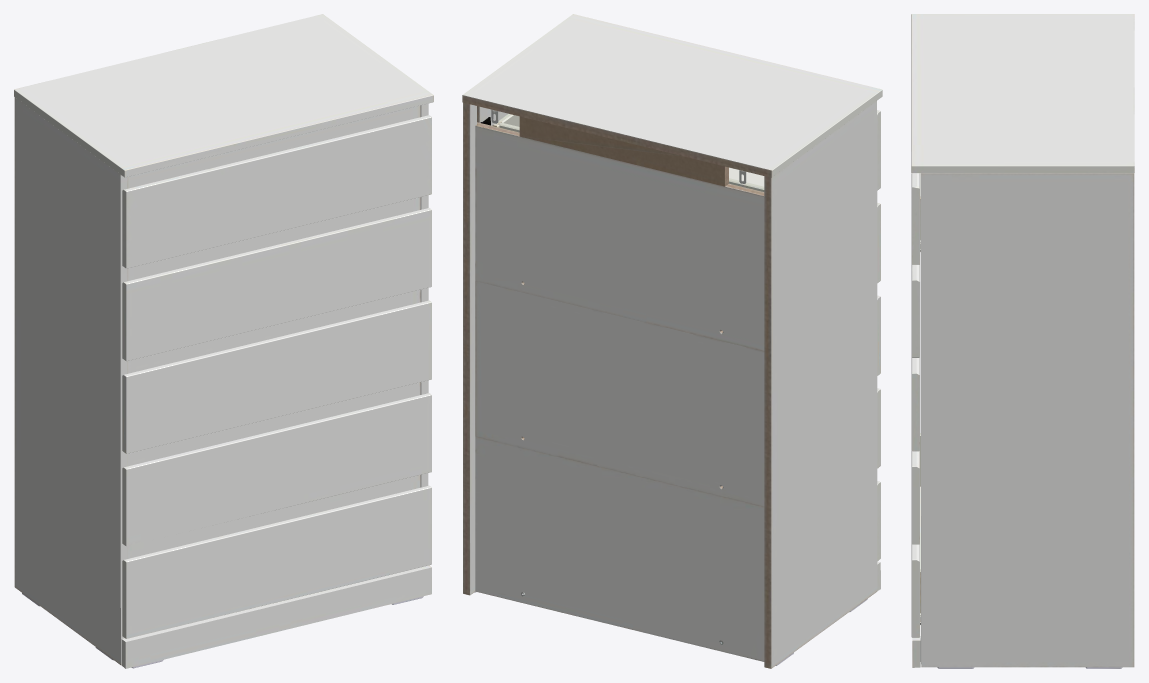
Rendered from lillberget_komoda_5_szuflad_60630478.glb.
The picture shows the model from 3 angles, left to right: view 1: azimuth 30°, elevation 25°; view 2: azimuth 150°, elevation 25°; view 3: azimuth 270°, elevation 25°; orthographic projection.
Visible parts, largest first — view 1: lillberget_komoda_5_szuflad_60630478; view 2: lillberget_komoda_5_szuflad_60630478; view 3: lillberget_komoda_5_szuflad_60630478.
Boxes of the visible parts, x1,y1,x2,y2 form: lillberget_komoda_5_szuflad_60630478: (14,14,433,668); lillberget_komoda_5_szuflad_60630478: (462,14,882,668); lillberget_komoda_5_szuflad_60630478: (911,14,1134,668).
Size of the model in its own units: 0.7 by 1.08 by 0.434.
Materials: 1 (1 with a texture image).
